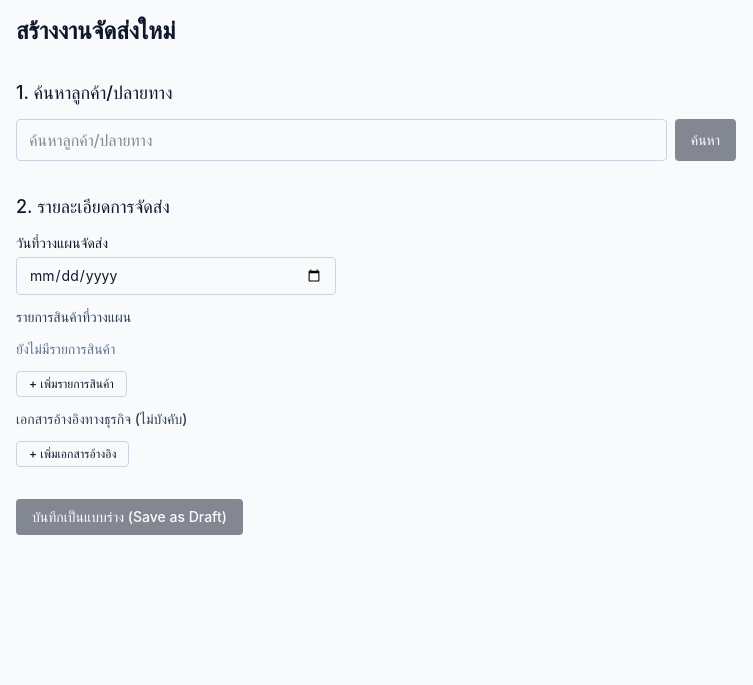
Test: NewTaskPage — search-first Task creation flow › only offers the Free-text fallback after a search has been performed
The width and height of the screenshot is (753, 685).
Expected: the heading "สร้างงานจัดส่งใหม่" is shown, [16,16,175,45]
Expected: the text "ปลายทางเฉพาะกิจ" is not shown
Type "acme" into the field with placeholder "ค้นหาลูกค้า/ปลายทาง" at (341, 140), box [16,119,667,161]
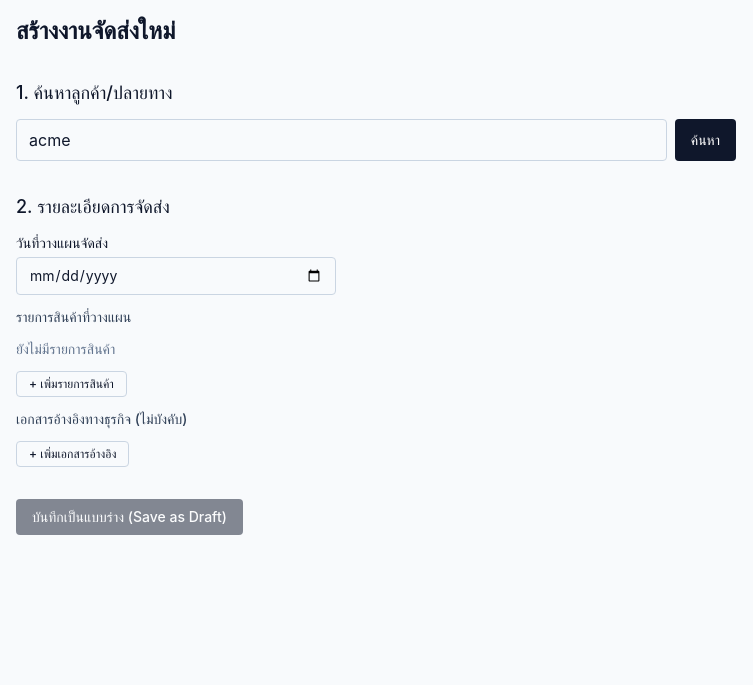
Click the button "ค้นหา" at (705, 140), box [675,119,736,161]
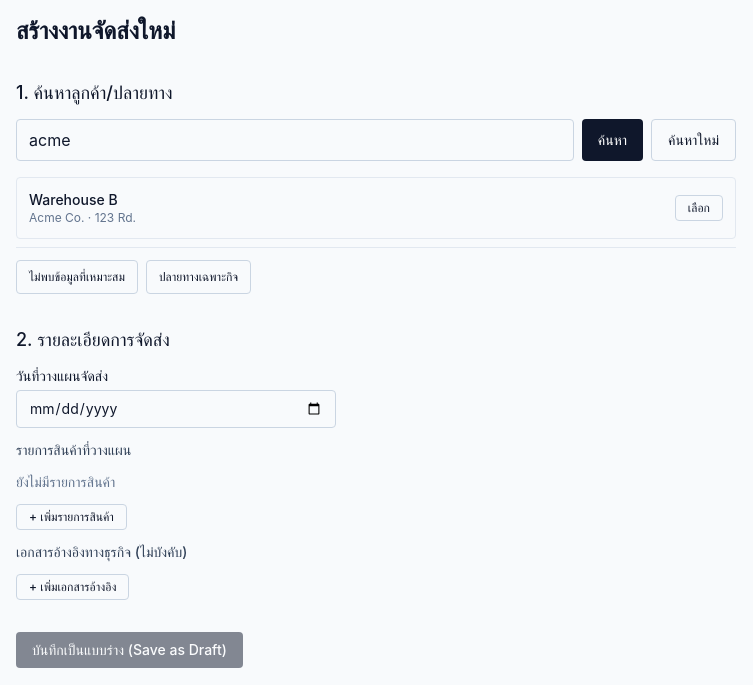
Now the text "Warehouse B" is shown, box [29,191,118,208]
Now the button "ปลายทางเฉพาะกิจ" is shown, box [146,260,251,294]
